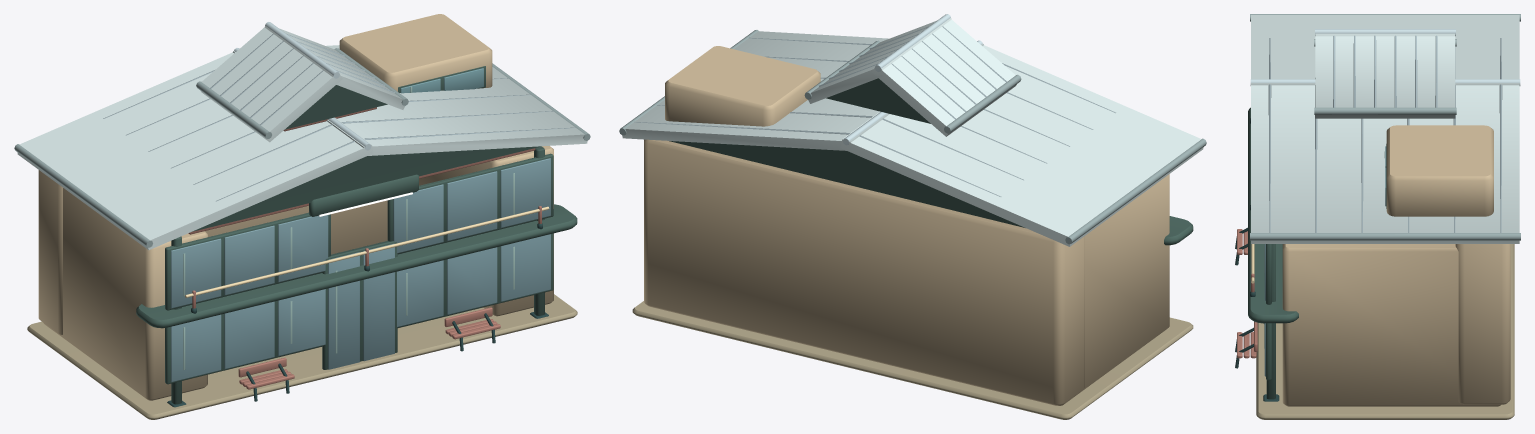
The model's file is wilderness_motel.glb.
3 renders of one model, left to right at view 1: azimuth 30°, elevation 25°; view 2: azimuth 150°, elevation 25°; view 3: azimuth 270°, elevation 25°, orthographic. The views are drawn at different scales.
Visible parts, largest first — view 1: WildernessMotel; view 2: WildernessMotel; view 3: WildernessMotel.
Part boxes in pixels (bbox=[...]): WildernessMotel: bbox=[14, 14, 590, 419]; WildernessMotel: bbox=[619, 14, 1206, 419]; WildernessMotel: bbox=[1235, 14, 1520, 419].
Size of the model in its own units: 13.69 by 8.15 by 7.44.
